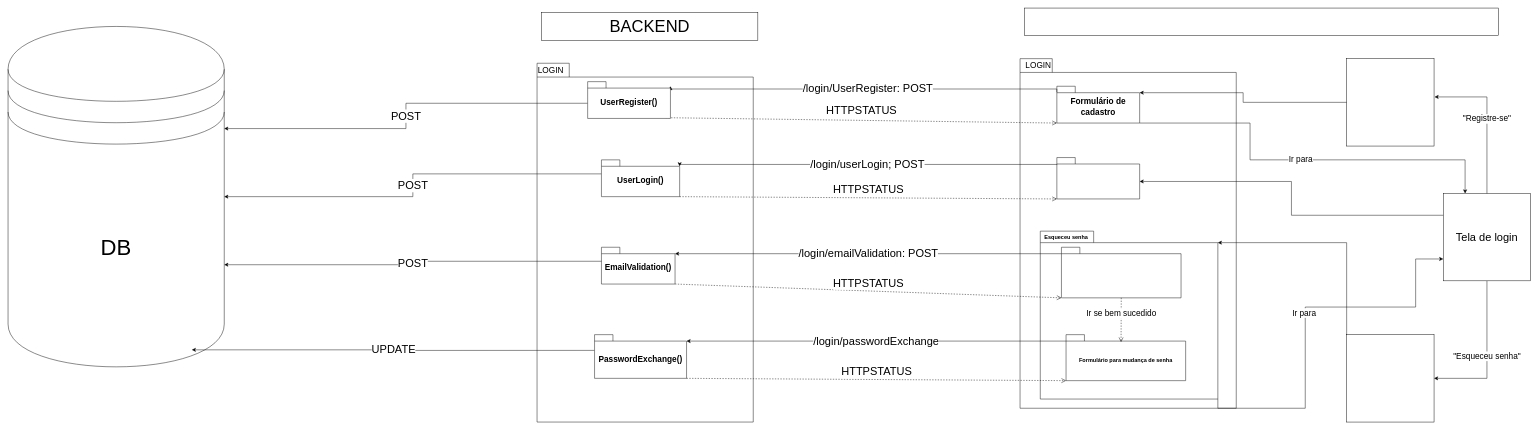
Image size: 1539x430. Some labels were removed from this diagram. Here are the shapes that lost their labels. From the top down, the box of each, then its label:
(1024, 8, 1498, 36): FRONTEND
(1346, 58, 1434, 146): Tela de cadastro
(1056, 157, 1140, 199): Formulário de login
(1061, 247, 1181, 298): Formulário para validar email da opção "Esqueceu senha"
(1346, 334, 1434, 422): Tela de "Esqueceu senha"
